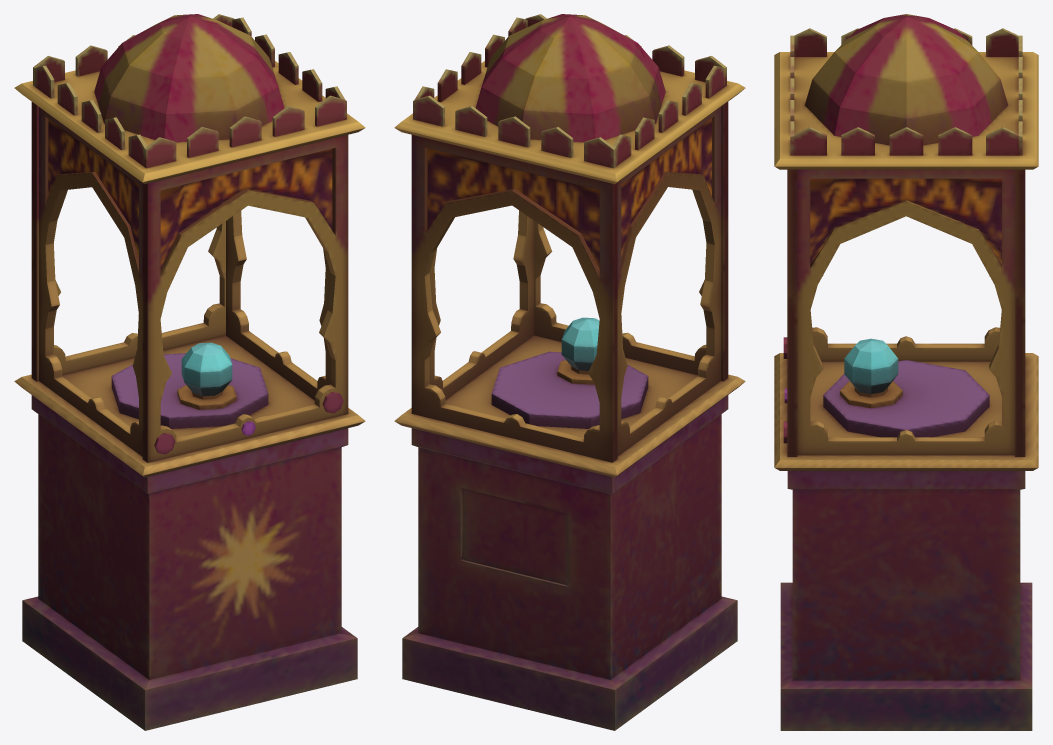
The model's file is Cabine_Zatan_2.fbx.
3 views of the same model, side by side, from view 1: azimuth 30°, elevation 25°; view 2: azimuth 150°, elevation 25°; view 3: azimuth 270°, elevation 25° (orthographic). The views are drawn at different scales.
Visible parts, largest first — view 1: Cabine_Zatan; view 2: Cabine_Zatan, Cabine_Porta; view 3: Cabine_Zatan.
Part boxes in pixels (left/top/right/bottom): Cabine_Zatan: left=14, top=14, right=365, bottom=730; Cabine_Zatan: left=394, top=14, right=745, bottom=730; Cabine_Porta: left=463, top=488, right=568, bottom=585; Cabine_Zatan: left=774, top=14, right=1038, bottom=730.
Bounding box in the file's own units: 104 × 287 × 104.
1 material, 1 textured.
